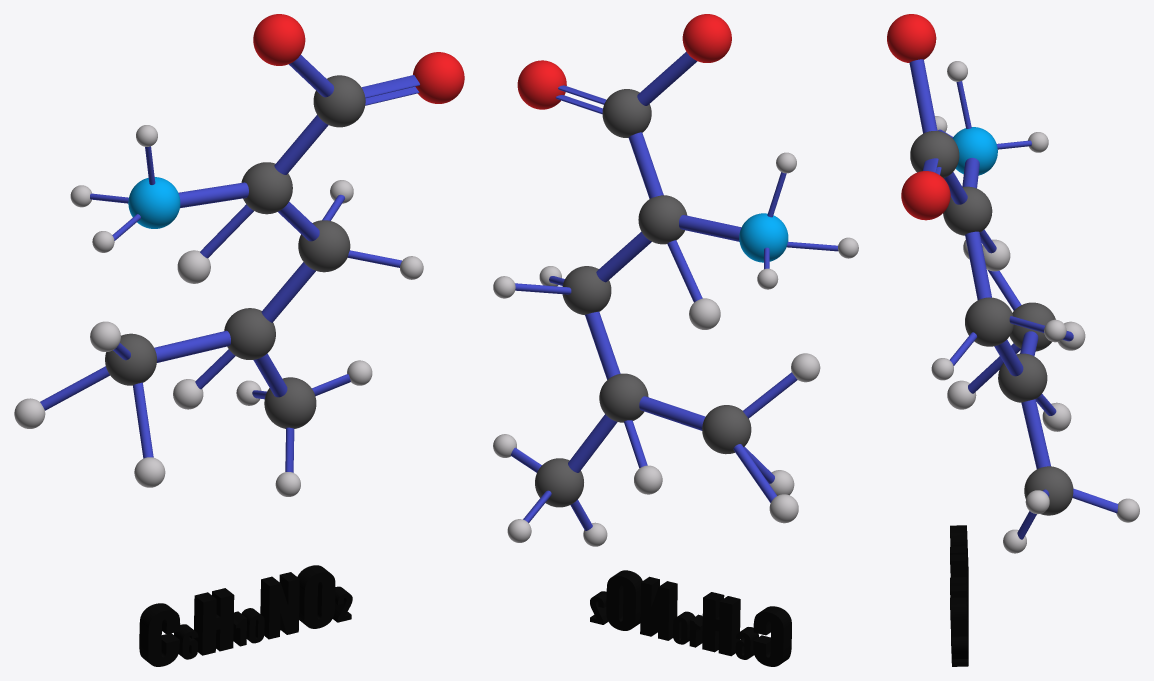
3 views of the same model, side by side, from view 1: azimuth 30°, elevation 25°; view 2: azimuth 150°, elevation 25°; view 3: azimuth 270°, elevation 25° (orthographic). The views are drawn at different scales.
Parts seen in each view (by area): view 1: node_id266 (×4), node_id177, node_id143, node_id232, node_id216, node_id160, node_id138, node_id221, node_id200, node_id211, node_id206, node_id227 (+14 smaller); view 2: node_id266 (×5), node_id177, node_id211, node_id143, node_id232, node_id216, node_id138, node_id160, node_id200, node_id221, node_id172, node_id189 (+12 smaller); view 3: node_id266 (×4), node_id143, node_id177, node_id221, node_id216, node_id160, node_id138, node_id200, node_id232, node_id211, node_id172, node_id195 (+16 smaller).
Boxes of the visible parts, box(x1,y1,x2,y2) form: node_id266 (×4): box(139, 565, 335, 666); node_id177: box(253, 14, 305, 65); node_id143: box(413, 52, 464, 103); node_id232: box(128, 177, 180, 228); node_id216: box(224, 308, 275, 359); node_id160: box(241, 162, 292, 214); node_id138: box(313, 75, 365, 127); node_id221: box(298, 220, 350, 272); node_id200: box(264, 377, 316, 428); node_id211: box(105, 333, 156, 385); node_id206: box(154, 330, 230, 362); node_id227: box(178, 182, 248, 208); node_id266 (×5): box(606, 570, 791, 666); node_id177: box(682, 14, 731, 62); node_id211: box(702, 405, 751, 454); node_id143: box(517, 60, 566, 109); node_id232: box(739, 213, 788, 262); node_id216: box(599, 373, 648, 422); node_id138: box(602, 89, 651, 137); node_id160: box(638, 195, 687, 244); node_id200: box(535, 458, 583, 507); node_id221: box(562, 266, 611, 314); node_id172: box(637, 51, 697, 105); node_id189: box(585, 311, 620, 379); node_id266 (×4): box(950, 525, 968, 666); node_id143: box(901, 171, 950, 220); node_id177: box(887, 14, 936, 62); node_id221: box(965, 297, 1013, 346); node_id216: box(998, 353, 1047, 402); node_id160: box(943, 186, 992, 235); node_id138: box(910, 131, 959, 178); node_id200: box(1024, 466, 1073, 515); node_id232: box(952, 127, 997, 175); node_id211: box(1009, 302, 1055, 351); node_id172: box(909, 59, 937, 133); node_id195: box(1021, 399, 1050, 469).
Bounding box in the file's own units: 0.36 × 0.6004 × 0.2263.
50 materials, 22 textured.
